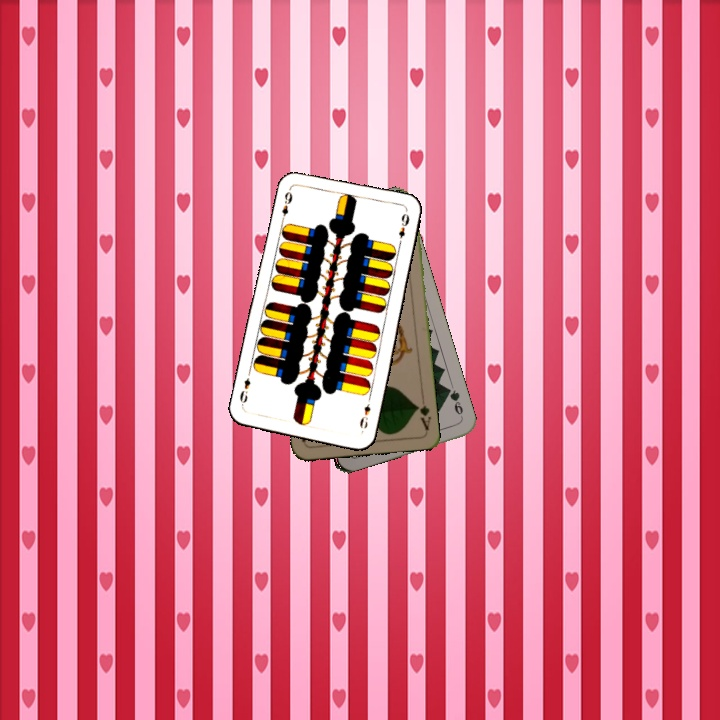E9: (277, 184, 295, 224), (355, 400, 373, 431)
G9: (442, 383, 466, 421)
GA: (412, 392, 433, 433)
